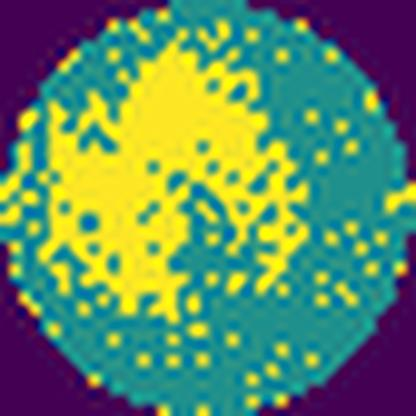Donut: (52, 47, 314, 327)
